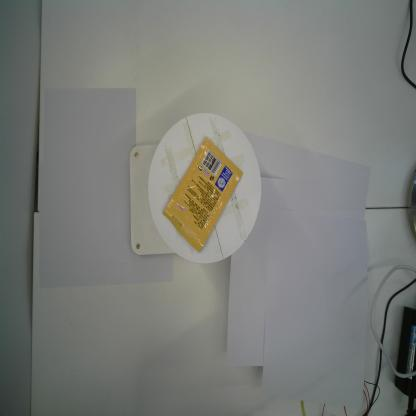Seasoner: (162, 133, 244, 256)
